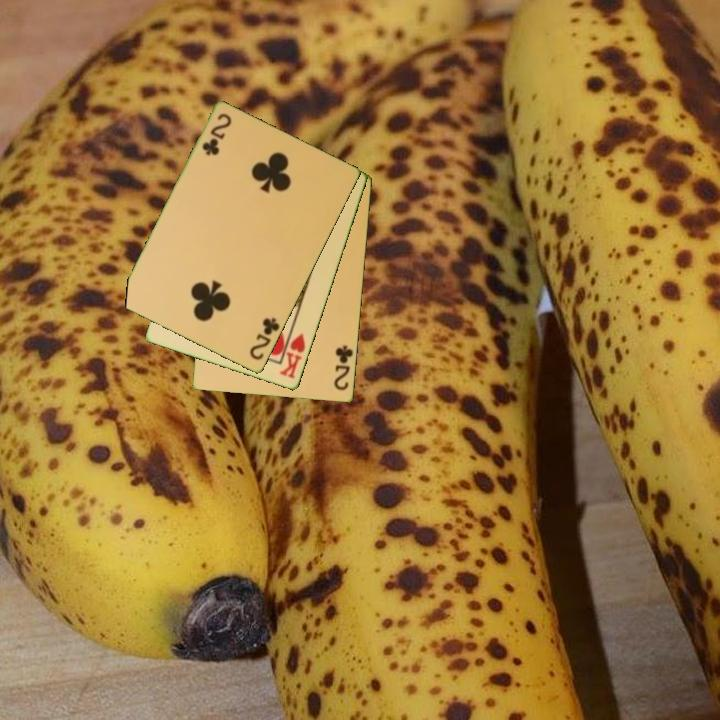2c: (246, 314, 283, 363), (198, 110, 235, 159), (331, 342, 356, 393)
Kh: (276, 325, 309, 382)
